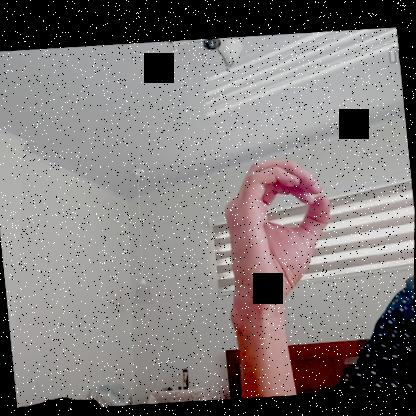O: (217, 147, 342, 315)
